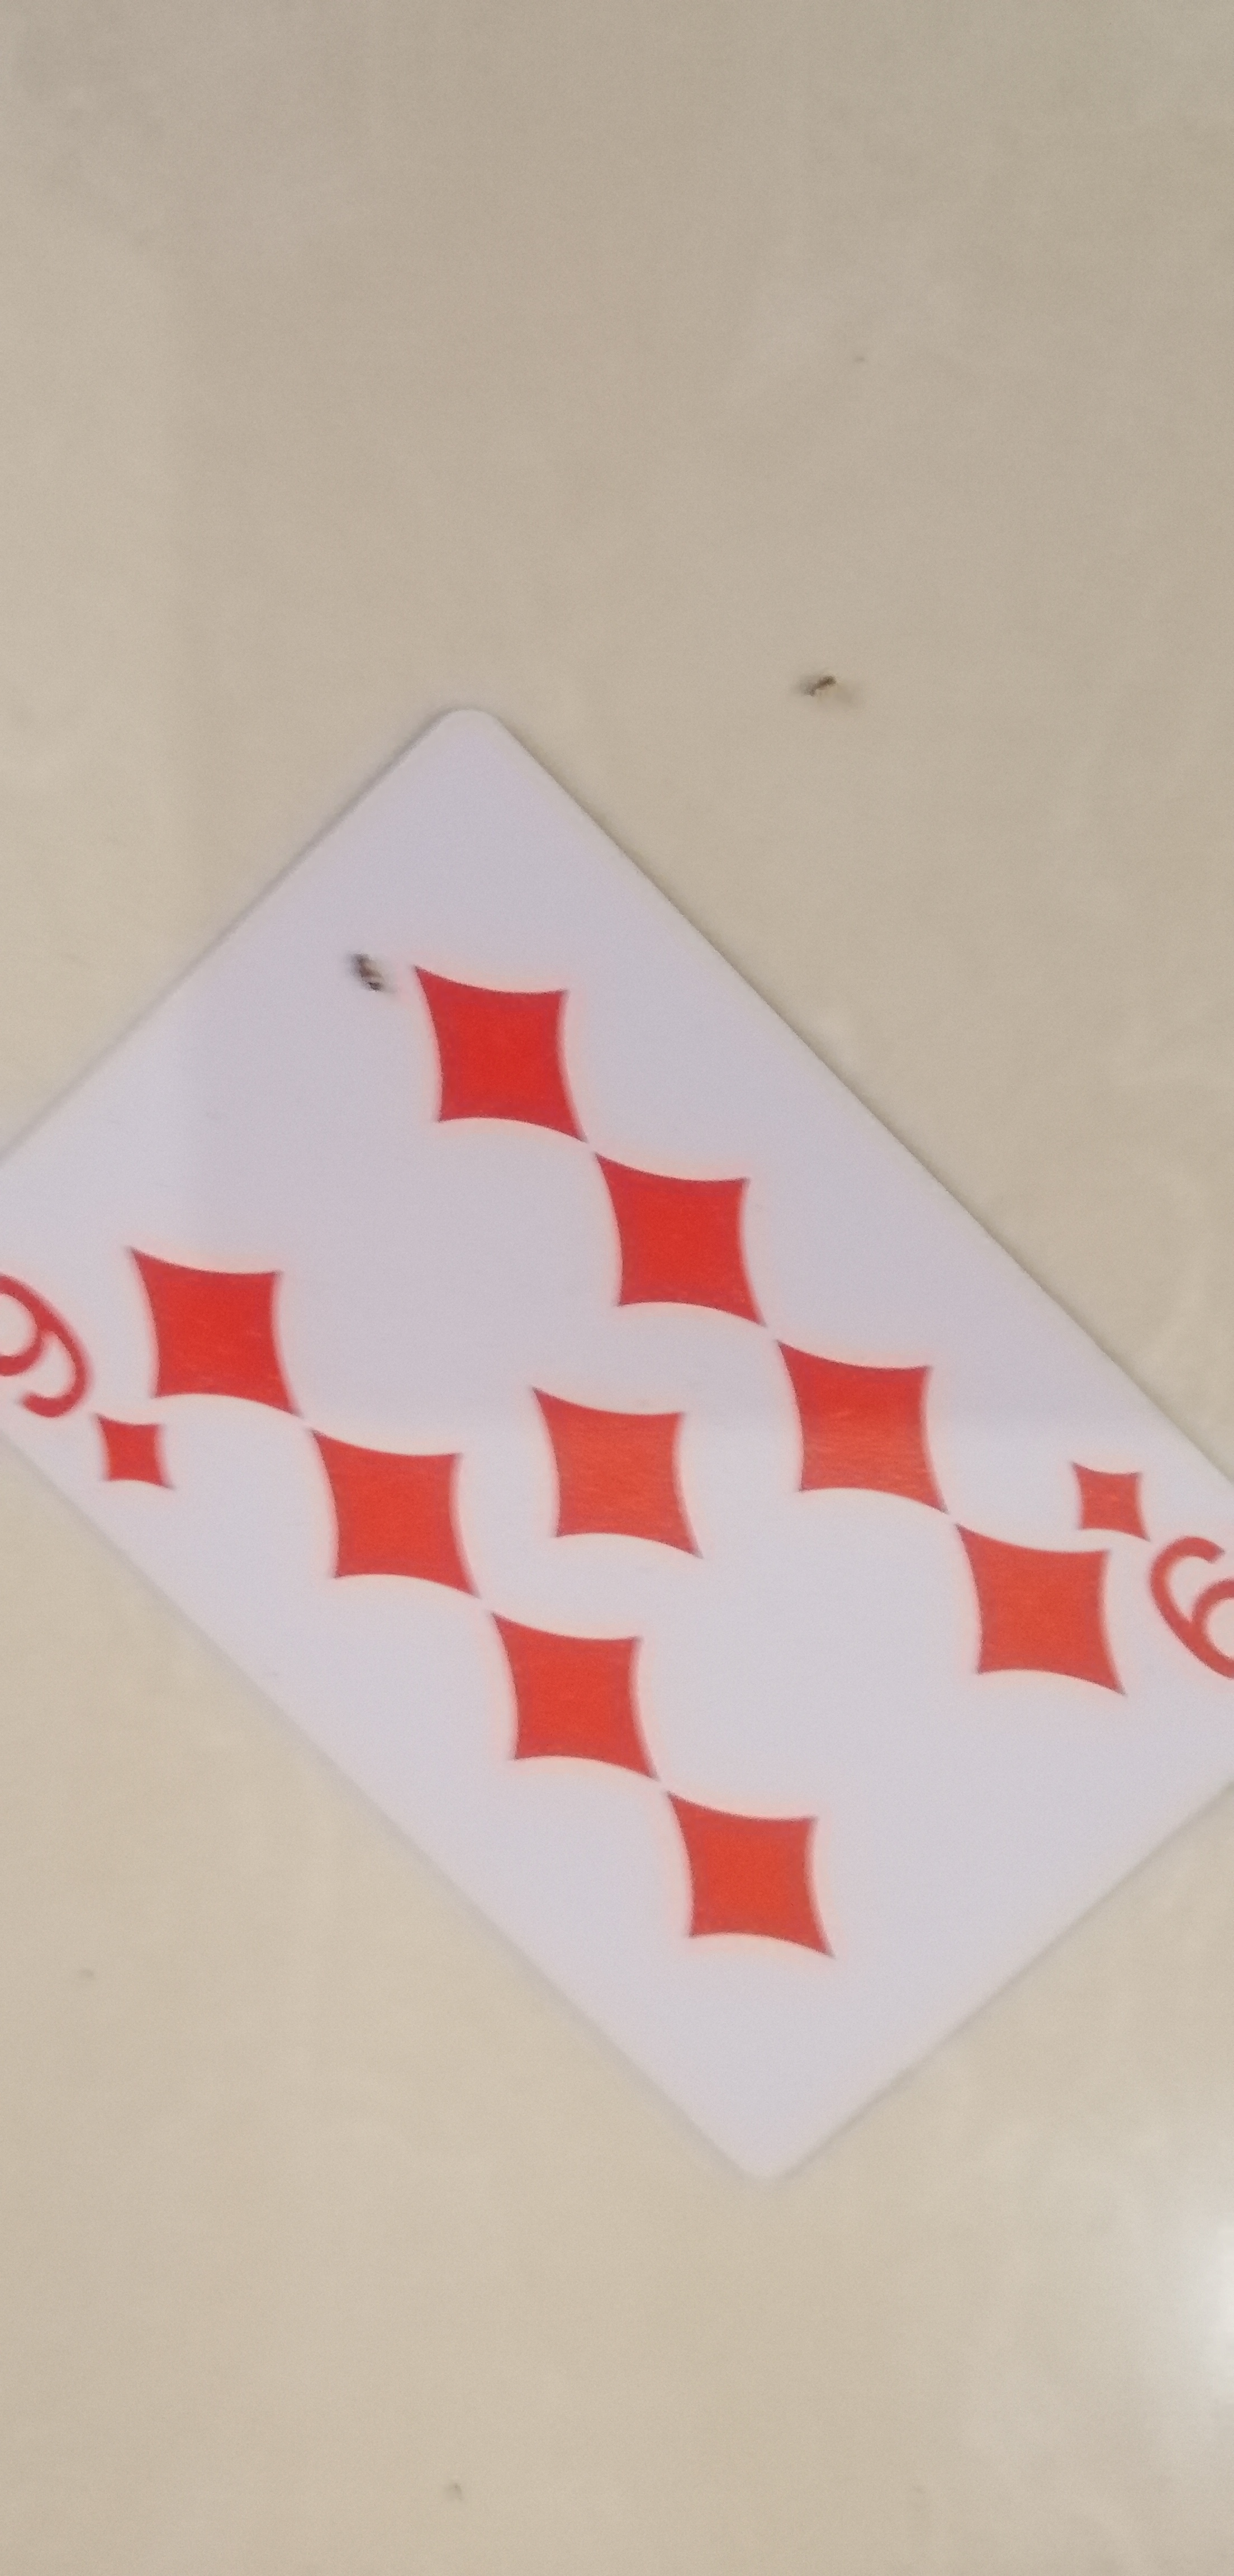nine: (3, 700, 1234, 2060)
